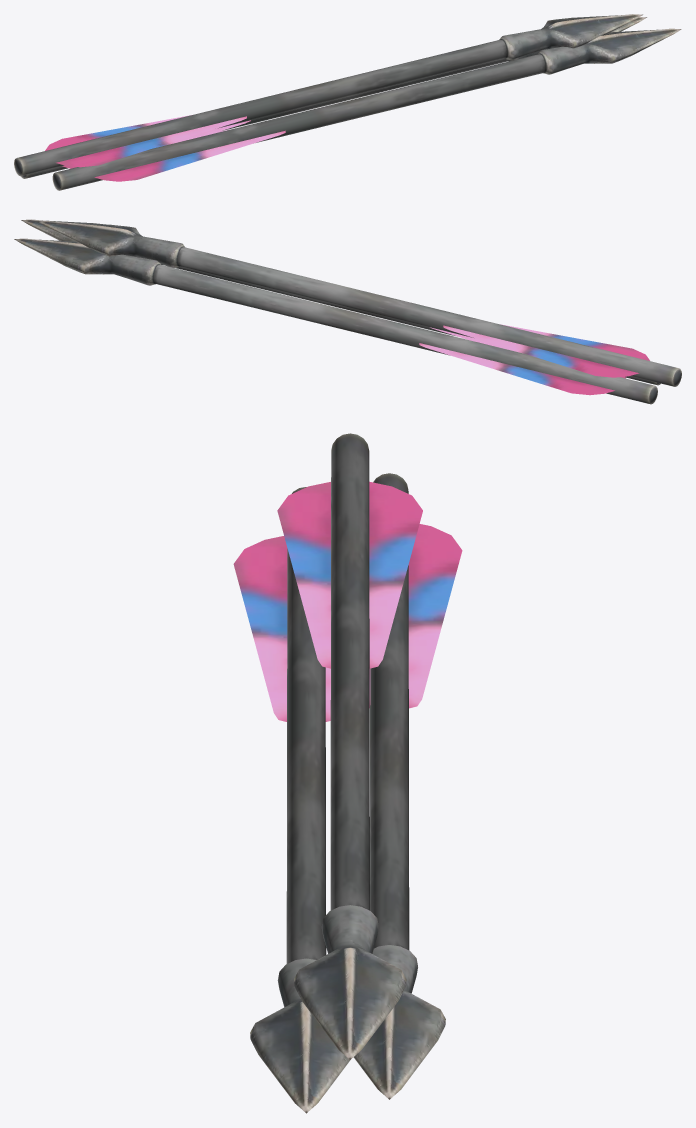
3 renders of one model, top to bottom at view 1: azimuth 30°, elevation 25°; view 2: azimuth 150°, elevation 25°; view 3: azimuth 270°, elevation 25°, orthographic. The views are drawn at different scales.
Parts seen in each view (by area): view 1: SM_Bolt_Stack_01_LOD0; view 2: SM_Bolt_Stack_01_LOD0; view 3: SM_Bolt_Stack_01_LOD0.
Boxes of the visible parts, left/top/right/bottom form: SM_Bolt_Stack_01_LOD0: left=14, top=14, right=681, bottom=190; SM_Bolt_Stack_01_LOD0: left=14, top=219, right=681, bottom=404; SM_Bolt_Stack_01_LOD0: left=233, top=433, right=462, bottom=1113.
Size of the model in its own units: 0.4775 by 0.0279 by 0.0725.
Materials: 1 (1 with a texture image).
